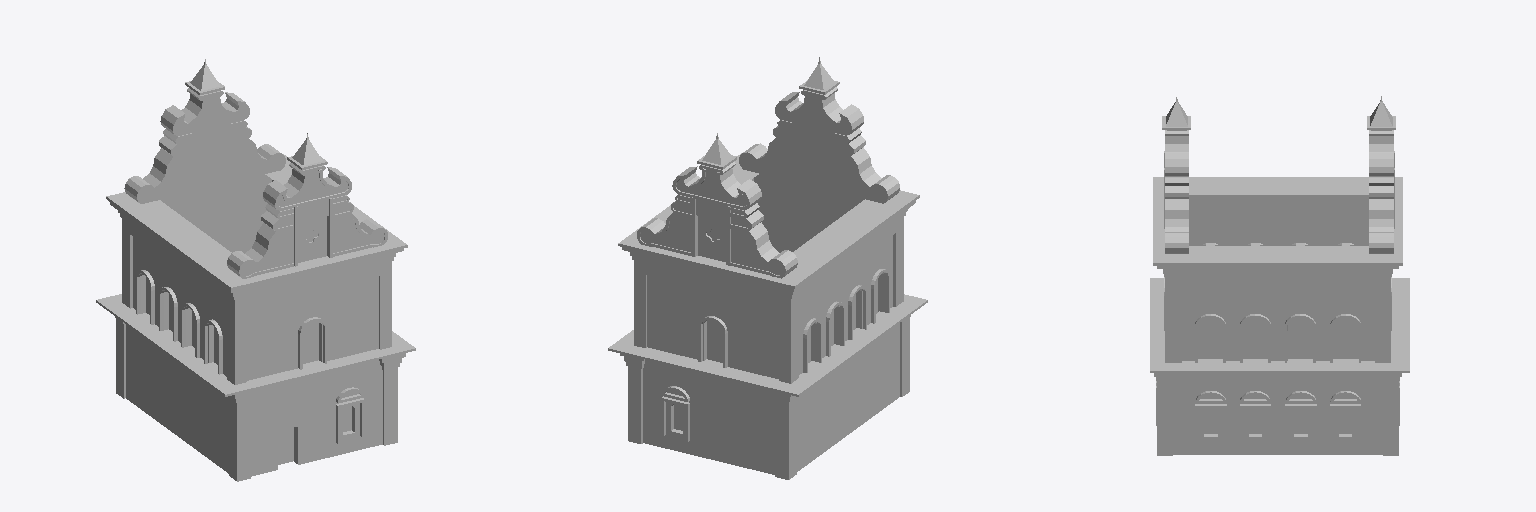
Rendered from Housie3.obj.
The picture shows the model from 3 angles: view 1: azimuth 30°, elevation 25°; view 2: azimuth 150°, elevation 25°; view 3: azimuth 270°, elevation 25°; orthographic projection.
Parts seen in each view (by area): view 1: Housie; view 2: Housie; view 3: Housie.
Boxes of the visible parts, x1=… form: Housie: x1=96, y1=59, x2=415, y2=481; Housie: x1=608, y1=57, x2=927, y2=479; Housie: x1=1150, y1=96, x2=1409, y2=455.
Size of the model in its own units: 4.9 by 7.91 by 5.76.